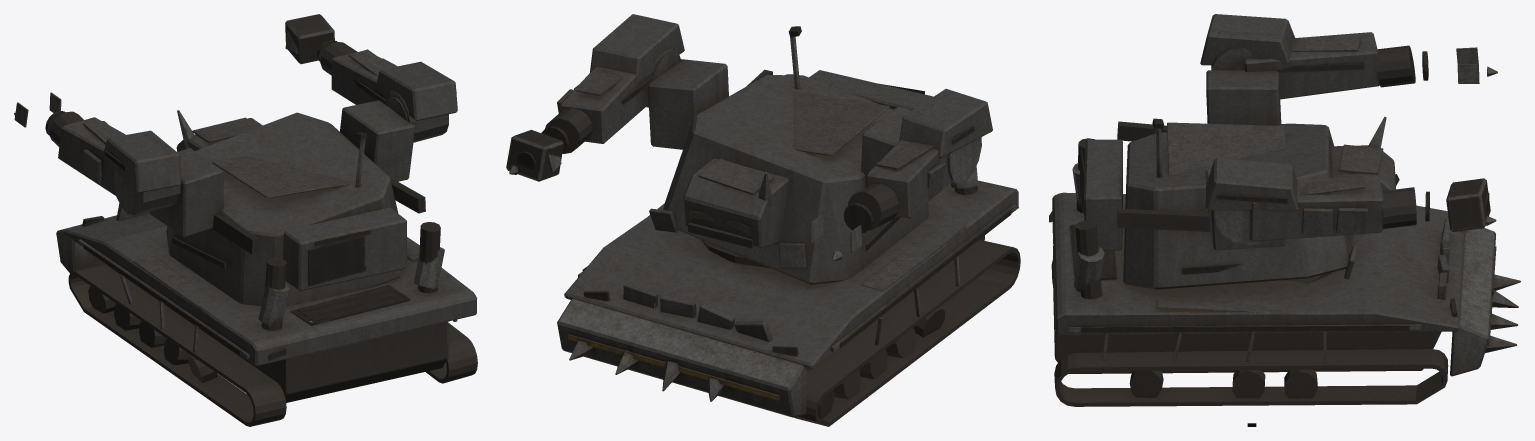
The model's file is chs_goliath_wreck.fbx.
The picture shows the model from 3 angles, left to right: view 1: azimuth 30°, elevation 25°; view 2: azimuth 150°, elevation 25°; view 3: azimuth 270°, elevation 25°; orthographic projection. The views are drawn at different scales.
Parts seen in each view (by area): view 1: turret_bar, base_bar, trackL_bar, armL_bar, armR_bar, trackR_bar; view 2: base_bar, turret_bar, trackL_bar, armR_bar, armL_bar; view 3: base_bar, turret_bar, trackR_bar, armR_bar, armL_bar.
Boxes of the visible parts, x1,y1,x2,y2 form: turret_bar: (150,96,425,306); base_bar: (56,203,476,402); trackL_bar: (68,263,286,426); armL_bar: (14,92,181,215); armR_bar: (285,14,457,142); trackR_bar: (426,323,477,383); base_bar: (557,74,1018,417); turret_bar: (648,26,933,284); trackL_bar: (794,239,1020,426); armR_bar: (506,14,684,181); armL_bar: (811,89,992,260); base_bar: (1049,138,1520,376); turret_bar: (1080,56,1399,289); trackR_bar: (1054,349,1448,406); armR_bar: (1205,158,1496,245); armL_bar: (1200,14,1497,99).
Bounding box in the file's own units: 965 × 860 × 1111.
2 materials, 2 textured.
